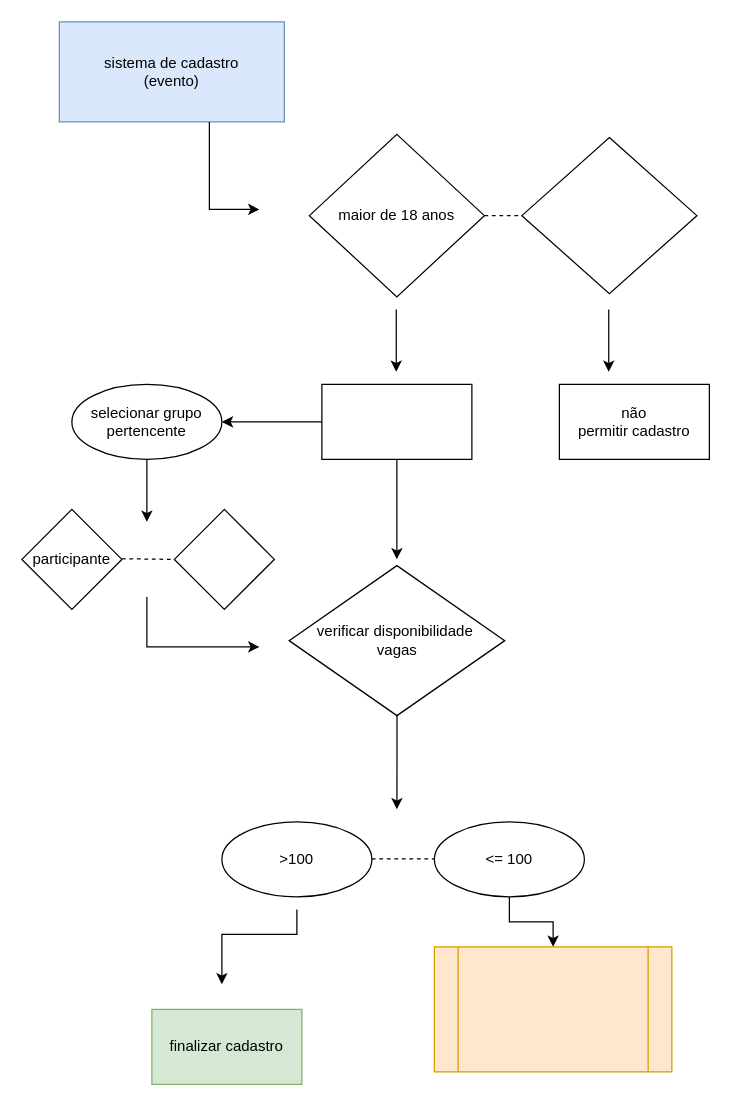
Image size: 731x1106. Some labels were removed from this diagram. The box of each missing label's shape, as (x1, y1, x2, y2) in pixels:
menor de 18 anos: (521, 136, 697, 294)
palestrante: (173, 508, 274, 609)
permitir cadastro: (321, 383, 472, 459)
suspender cadastro por preenchimento total de vagas disponiveis: (433, 946, 672, 1072)
